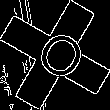O_SW: (24, 22, 86, 88)
